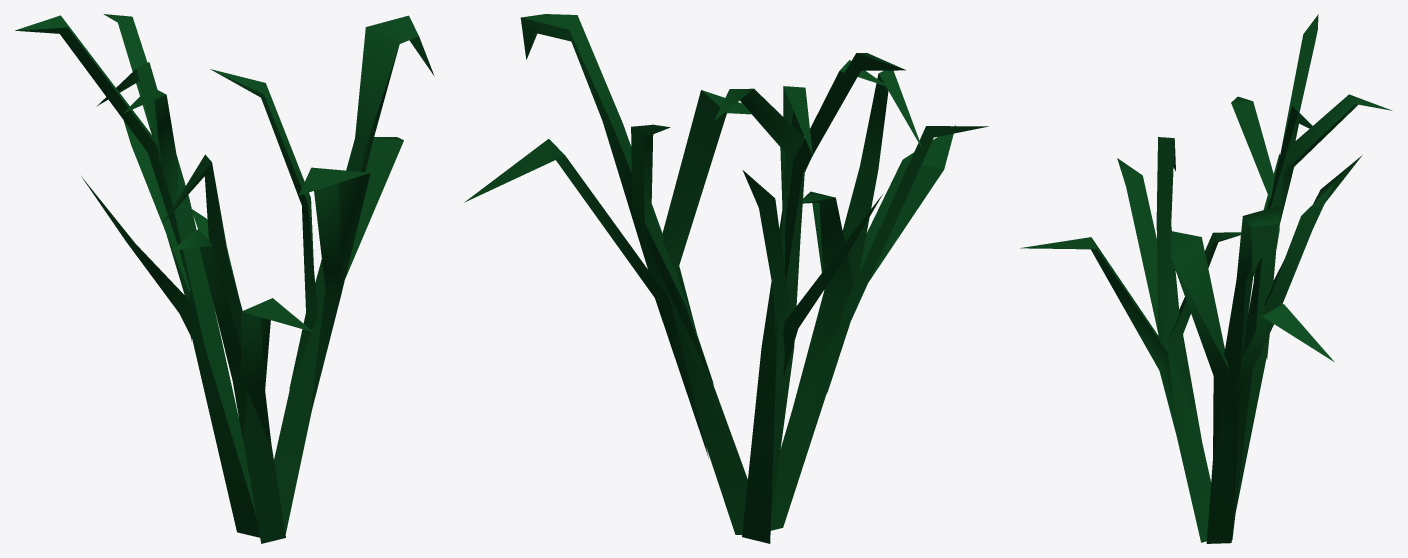
Rendered from Grass_4.fbx.
The picture shows the model from 3 angles, left to right: view 1: azimuth 30°, elevation 25°; view 2: azimuth 150°, elevation 25°; view 3: azimuth 270°, elevation 25°; orthographic projection. The views are drawn at different scales.
Visible parts, largest first — view 1: Grass_4; view 2: Grass_4; view 3: Grass_4.
Boxes of the visible parts, <box> form: Grass_4: <box>15,14,434,543</box>; Grass_4: <box>464,14,988,543</box>; Grass_4: <box>1020,14,1392,543</box>.
Size of the model in its own units: 27.61 by 34.42 by 26.25.
